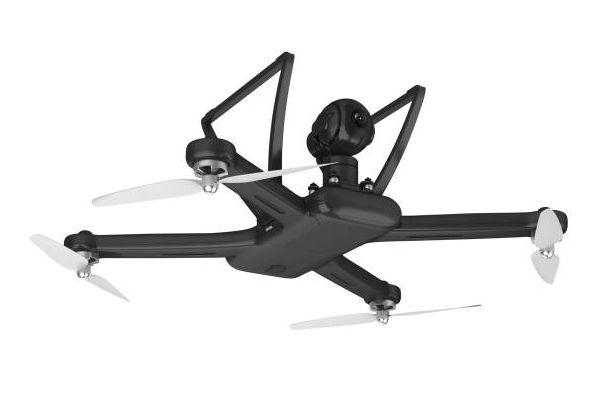Drone: (29, 45, 572, 335)
